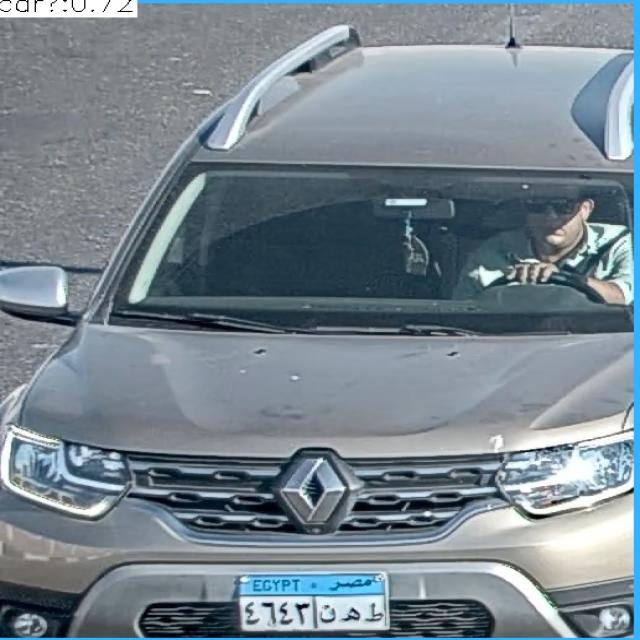windshield: (119, 166, 635, 324)
